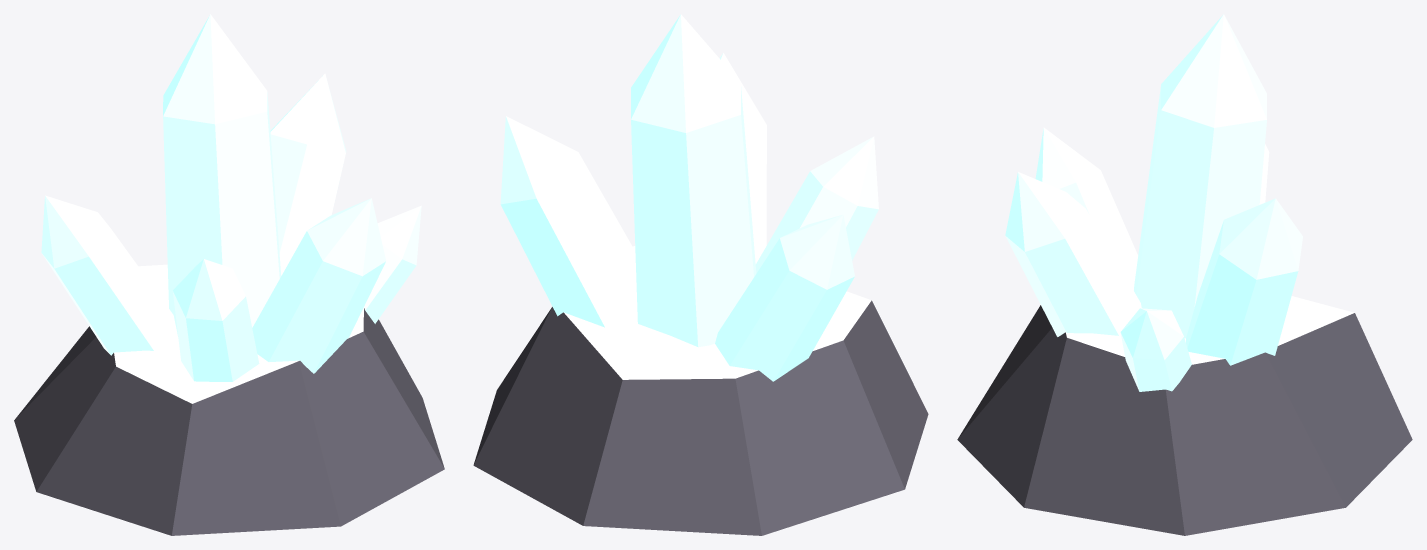
Rendered from relic_shard.fbx.
3 views of the same model, side by side, from view 1: azimuth 30°, elevation 25°; view 2: azimuth 150°, elevation 25°; view 3: azimuth 270°, elevation 25° (orthographic). The views are drawn at different scales.
Visible parts, largest first — view 1: RelicShard; view 2: RelicShard; view 3: RelicShard.
Part boxes in pixels (<box>): RelicShard: <box>14,14,444,535</box>; RelicShard: <box>473,14,928,535</box>; RelicShard: <box>957,14,1412,535</box>.
Size of the model in its own units: 280 by 289 by 280.
